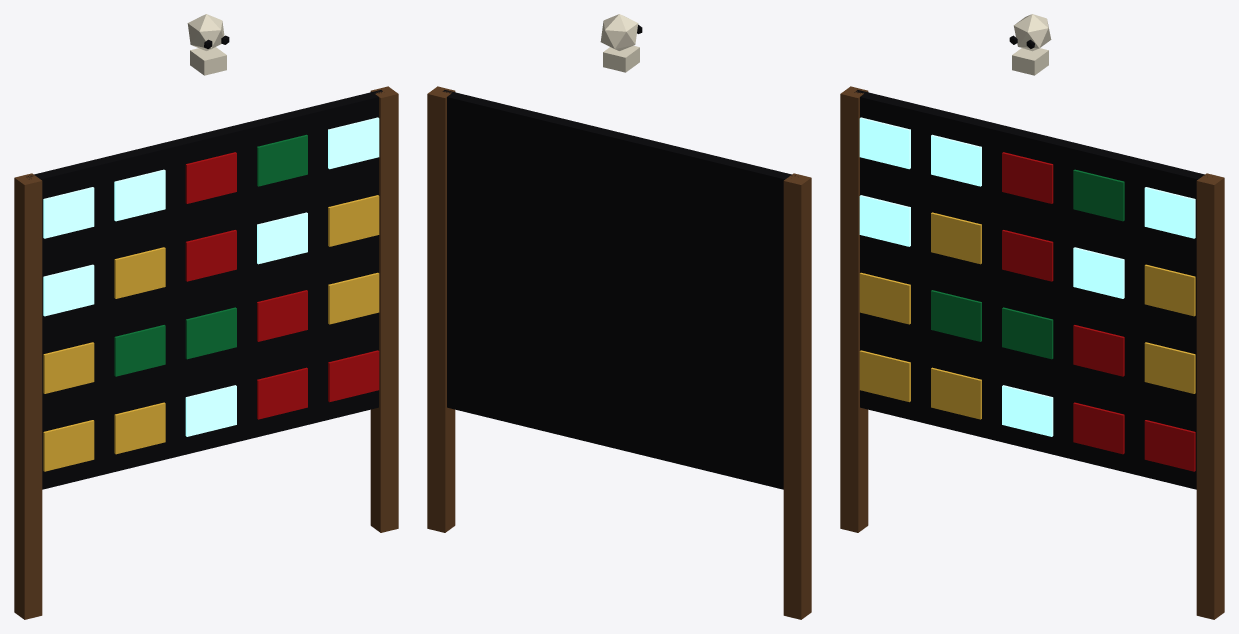
File: Prop_OR_OddsBoard_05.glb
3 renders of one model, left to right at view 1: azimuth 30°, elevation 25°; view 2: azimuth 150°, elevation 25°; view 3: azimuth 330°, elevation 25°, orthographic.
Visible parts, largest first — view 1: Prop_OR_OddsBoard_05; view 2: Prop_OR_OddsBoard_05; view 3: Prop_OR_OddsBoard_05.
Part boxes in pixels (x1=…): Prop_OR_OddsBoard_05: x1=14, y1=14, x2=398, y2=619; Prop_OR_OddsBoard_05: x1=427, y1=14, x2=811, y2=619; Prop_OR_OddsBoard_05: x1=840, y1=14, x2=1224, y2=619.
Bounding box in the file's own units: 3.15 × 4.48 × 0.3057.
